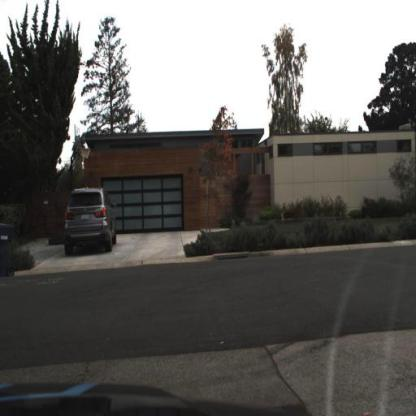car: (58, 182, 124, 257)
